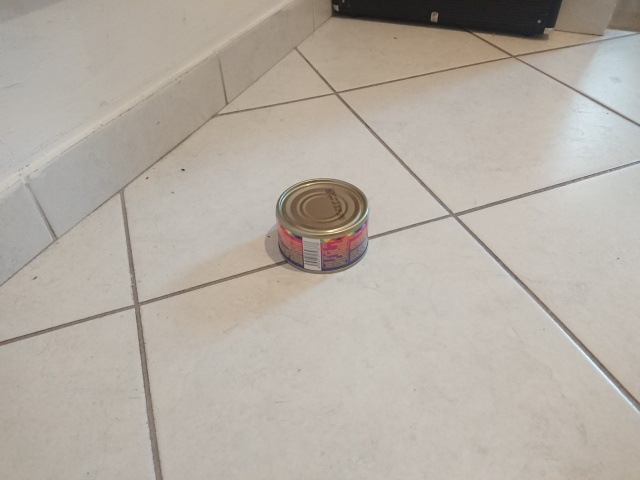Giana Tuna Salad Mexico 185g: (273, 175, 372, 276)
